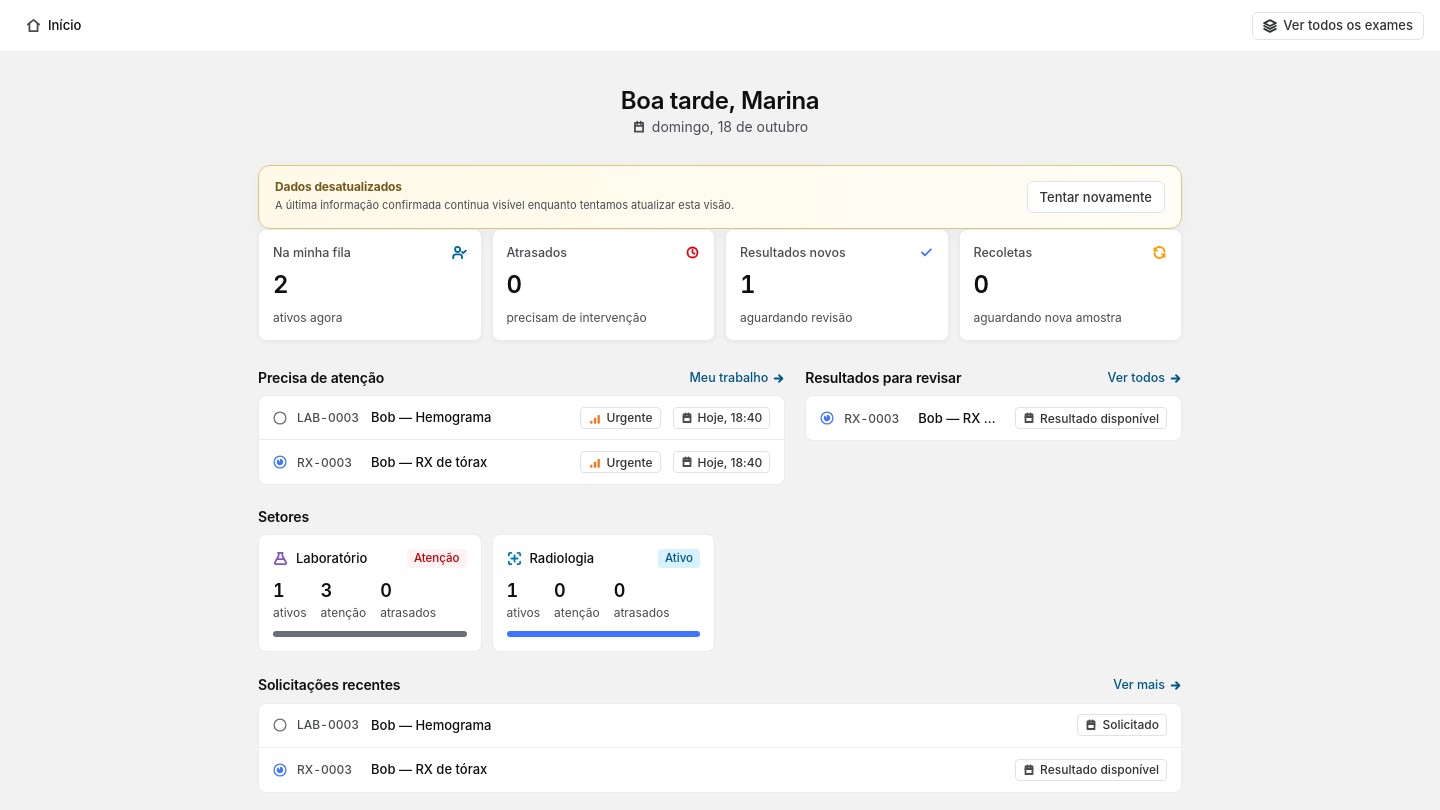
Test case: Home › preserves work with a stale warning after refresh fails and recovers both feeds
Expected: the message "Dados desatualizados" is shown, [258,166,1182,229]
Expected: the link "Na minha fila 2 ativos agora" is shown, [258,229,482,341]
Click the button "Tentar novamente" at (1096, 197), box [1027,181,1165,213]
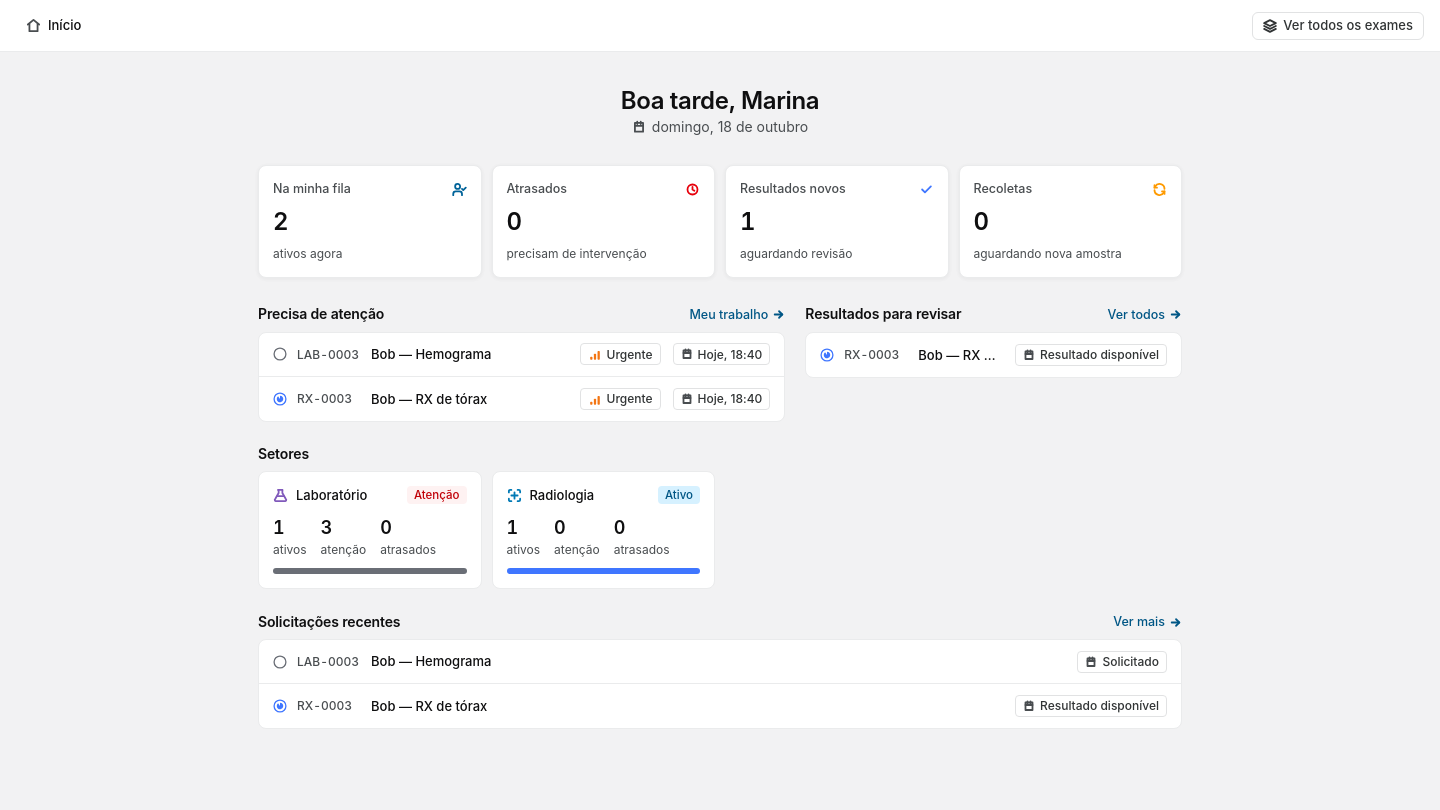
Now the heading "Dados desatualizados" is gone
